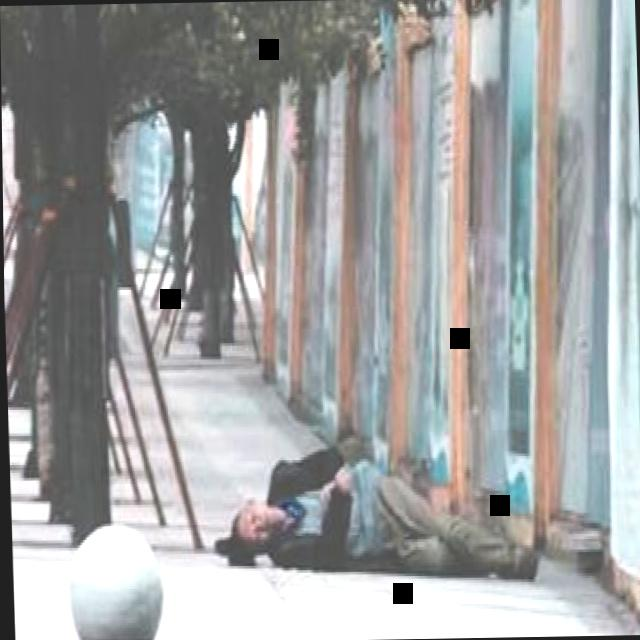Fall-Detected: (204, 424, 550, 586)
